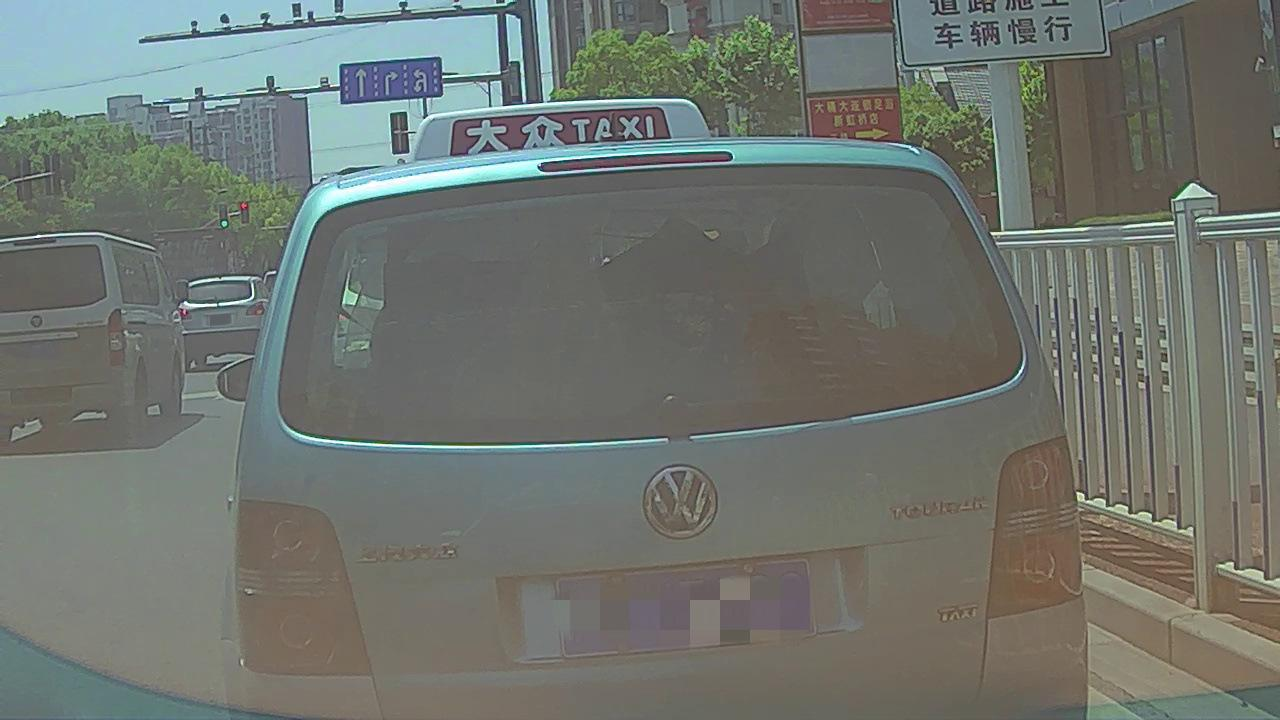traffic_light: (219, 206, 229, 228), (240, 201, 249, 225)
